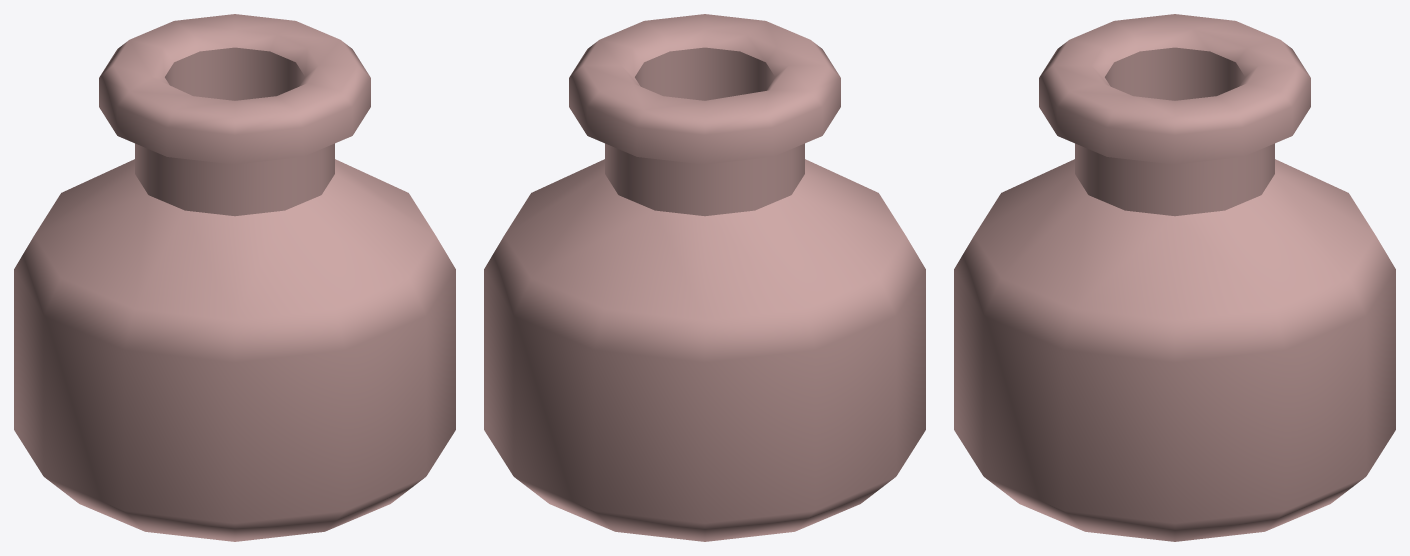
File: SM_Ink_Pod.fbx
3 views of the same model, side by side, from view 1: azimuth 30°, elevation 25°; view 2: azimuth 150°, elevation 25°; view 3: azimuth 270°, elevation 25° (orthographic).
Parts seen in each view (by area): view 1: SM_Ink_Pod; view 2: SM_Ink_Pod; view 3: SM_Ink_Pod.
Boxes of the visible parts, x1,y1,x2,y2 form: SM_Ink_Pod: (14,14,455,541); SM_Ink_Pod: (484,14,925,541); SM_Ink_Pod: (954,14,1395,541).
Bounding box in the file's own units: 4.8 × 4.8 × 4.8.
